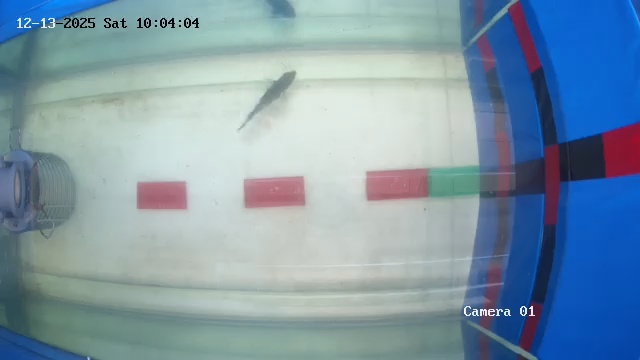fish: (249, 65, 296, 120)
